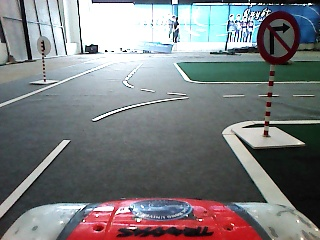ban_right: (257, 11, 301, 64)
